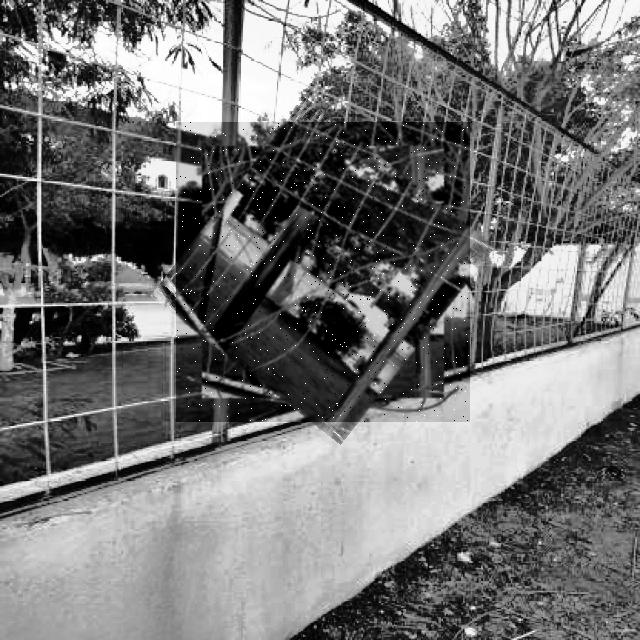anomaly-fence: (176, 122, 470, 422)
